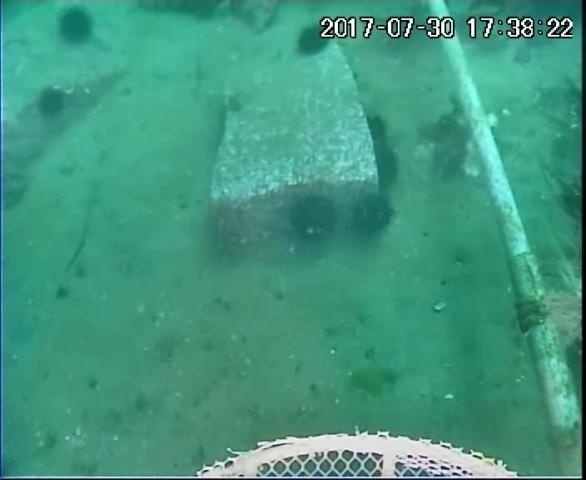echinus: (284, 189, 341, 248), (346, 189, 398, 244), (53, 5, 99, 51), (368, 141, 404, 194), (291, 20, 335, 62), (33, 85, 71, 123), (360, 110, 393, 150)
starfish: (346, 359, 401, 400)
